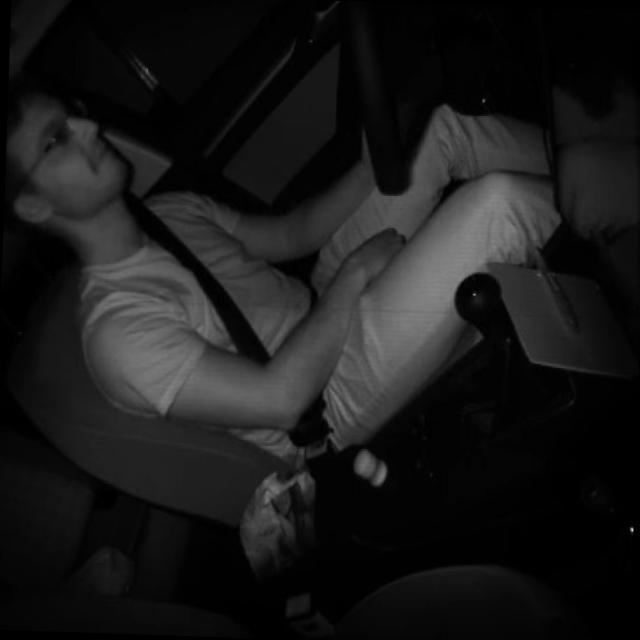pen: (527, 235, 586, 340)
